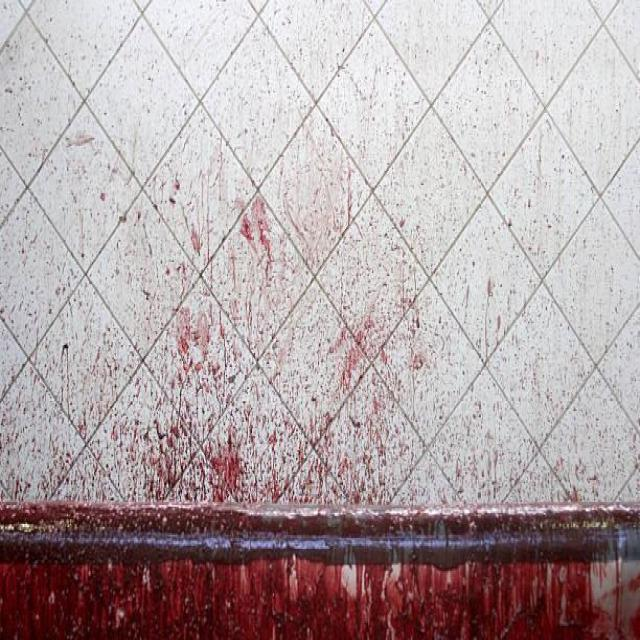flood: (1, 156, 640, 640)
